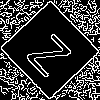Z: (25, 25, 80, 79)
